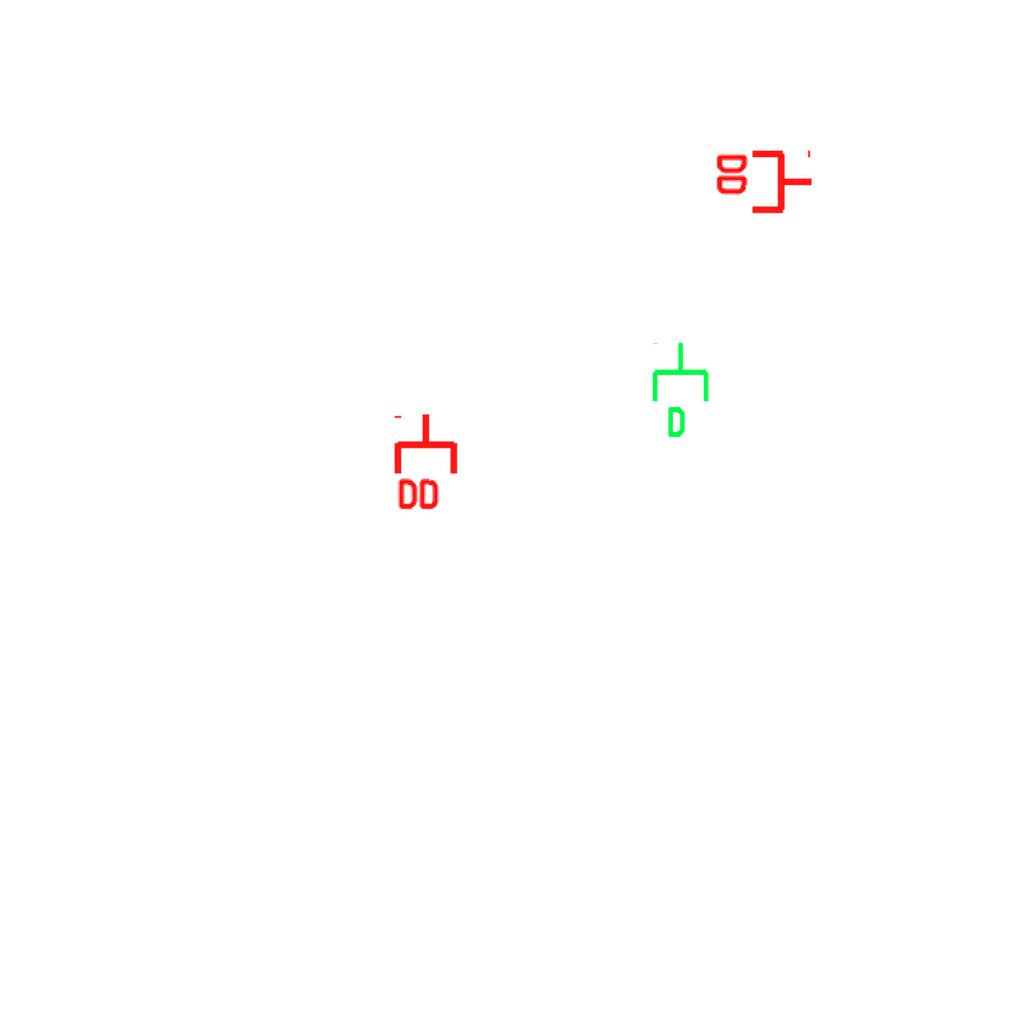Datenanschluss_einfach: (648, 340, 717, 440)
Datenanschluss_zweifach: (393, 411, 462, 514), (712, 149, 815, 218)
